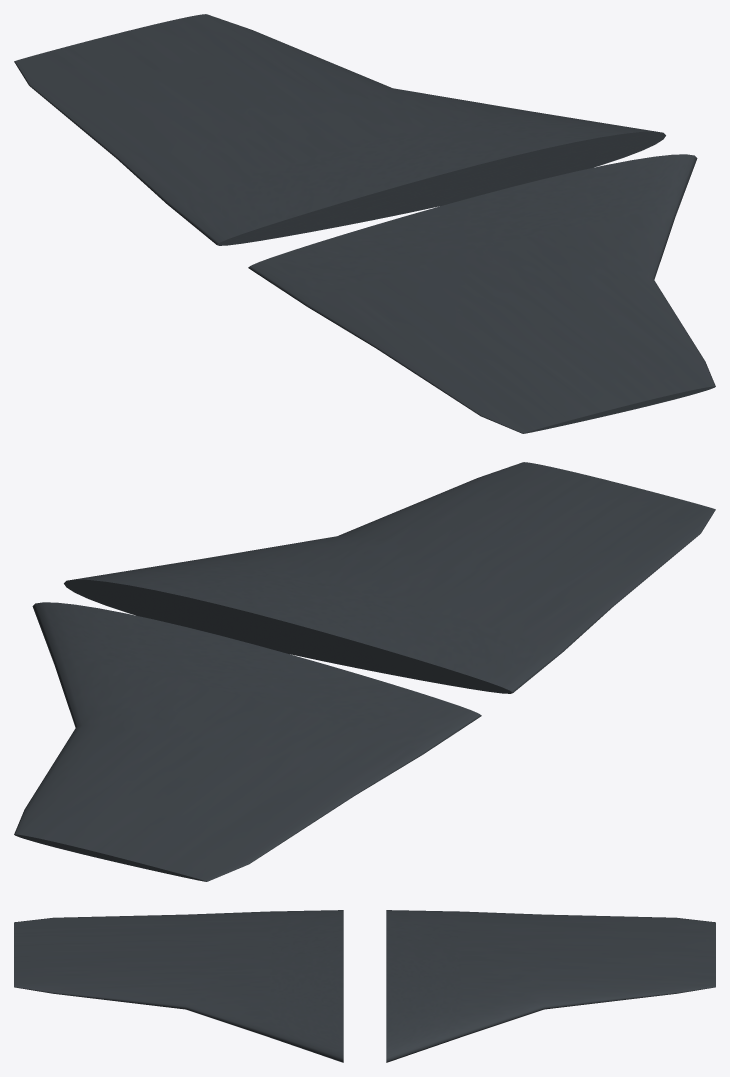
File: RU_SSN_Akula_STERNPLANES.fbx
3 renders of one model, top to bottom at view 1: azimuth 30°, elevation 25°; view 2: azimuth 150°, elevation 25°; view 3: azimuth 270°, elevation 25°, orthographic. The views are drawn at different scales.
Visible parts, largest first — view 1: RU_SSN_Akula_STERNPLANES; view 2: RU_SSN_Akula_STERNPLANES; view 3: RU_SSN_Akula_STERNPLANES.
Boxes of the visible parts, left/top/right/bottom form: RU_SSN_Akula_STERNPLANES: left=14, top=14, right=715, bottom=433; RU_SSN_Akula_STERNPLANES: left=14, top=462, right=715, bottom=881; RU_SSN_Akula_STERNPLANES: left=14, top=910, right=715, bottom=1062.
Bounding box in the file's own units: 10 × 19.6 × 0.7087.
